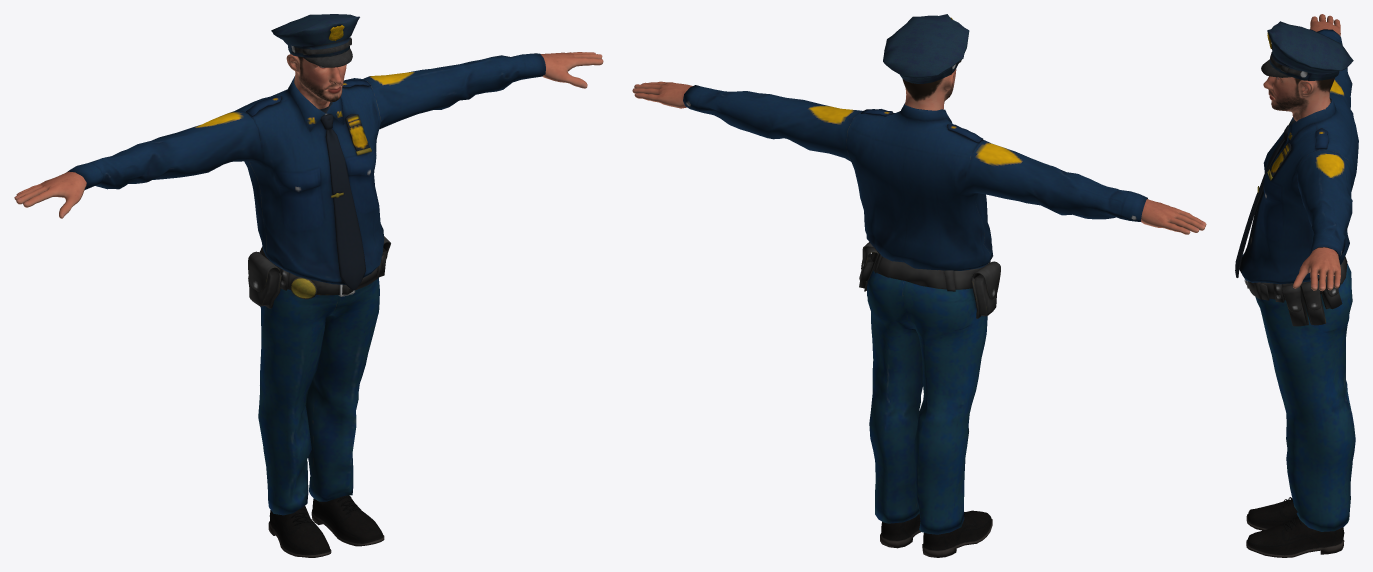
File: police man.FBX
The picture shows the model from 3 angles, left to right: view 1: azimuth 30°, elevation 25°; view 2: azimuth 150°, elevation 25°; view 3: azimuth 270°, elevation 25°; orthographic projection. The views are drawn at different scales.
Parts seen in each view (by area): view 1: Tops; view 2: Tops; view 3: Tops.
Boxes of the visible parts, x1,y1,x2,y2 form: Tops: [14, 14, 603, 557]; Tops: [632, 14, 1206, 557]; Tops: [1235, 14, 1358, 557].
Size of the model in its own units: 213 by 182 by 40.32.
1 material, 1 textured.
